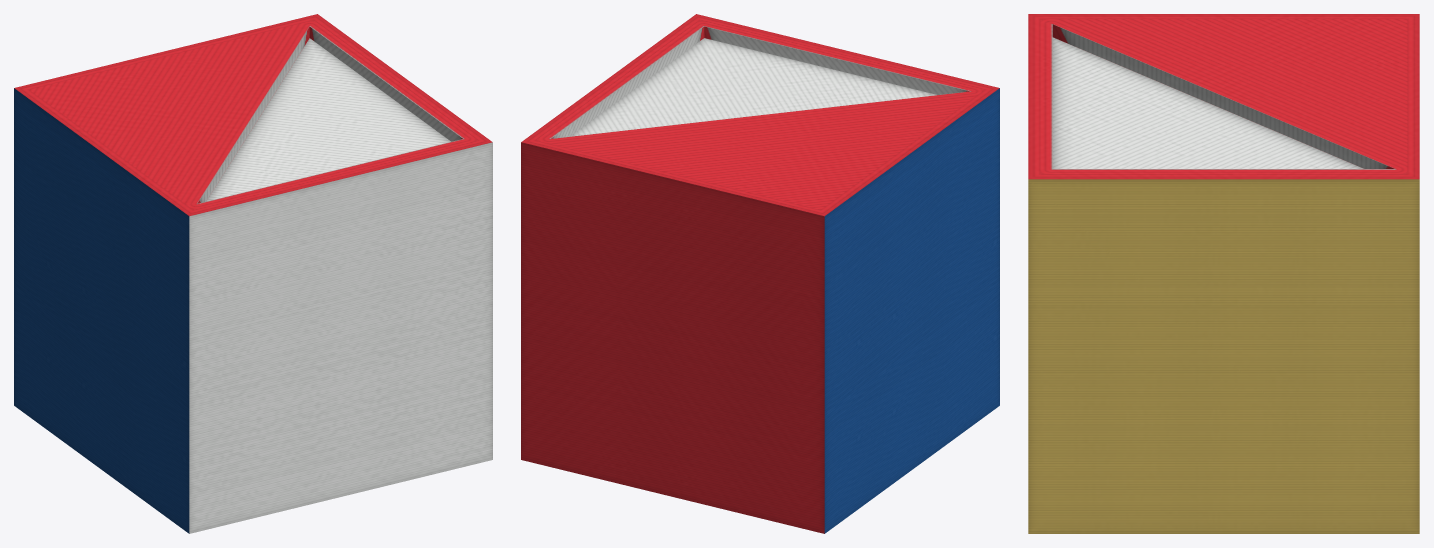
The model's file is color-cube-printed.obj.
3 renders of one model, left to right at view 1: azimuth 30°, elevation 25°; view 2: azimuth 150°, elevation 25°; view 3: azimuth 270°, elevation 25°, orthographic. The views are drawn at different scales.
Visible parts, largest first — view 1: ColorCube; view 2: ColorCube; view 3: ColorCube.
Boxes of the visible parts, x1,y1,x2,y2 form: ColorCube: (14,14,492,533); ColorCube: (521,14,999,533); ColorCube: (1028,14,1419,533).
Size of the model in its own units: 0.0275 by 0.0275 by 0.0275.
1 material, 1 textured.
